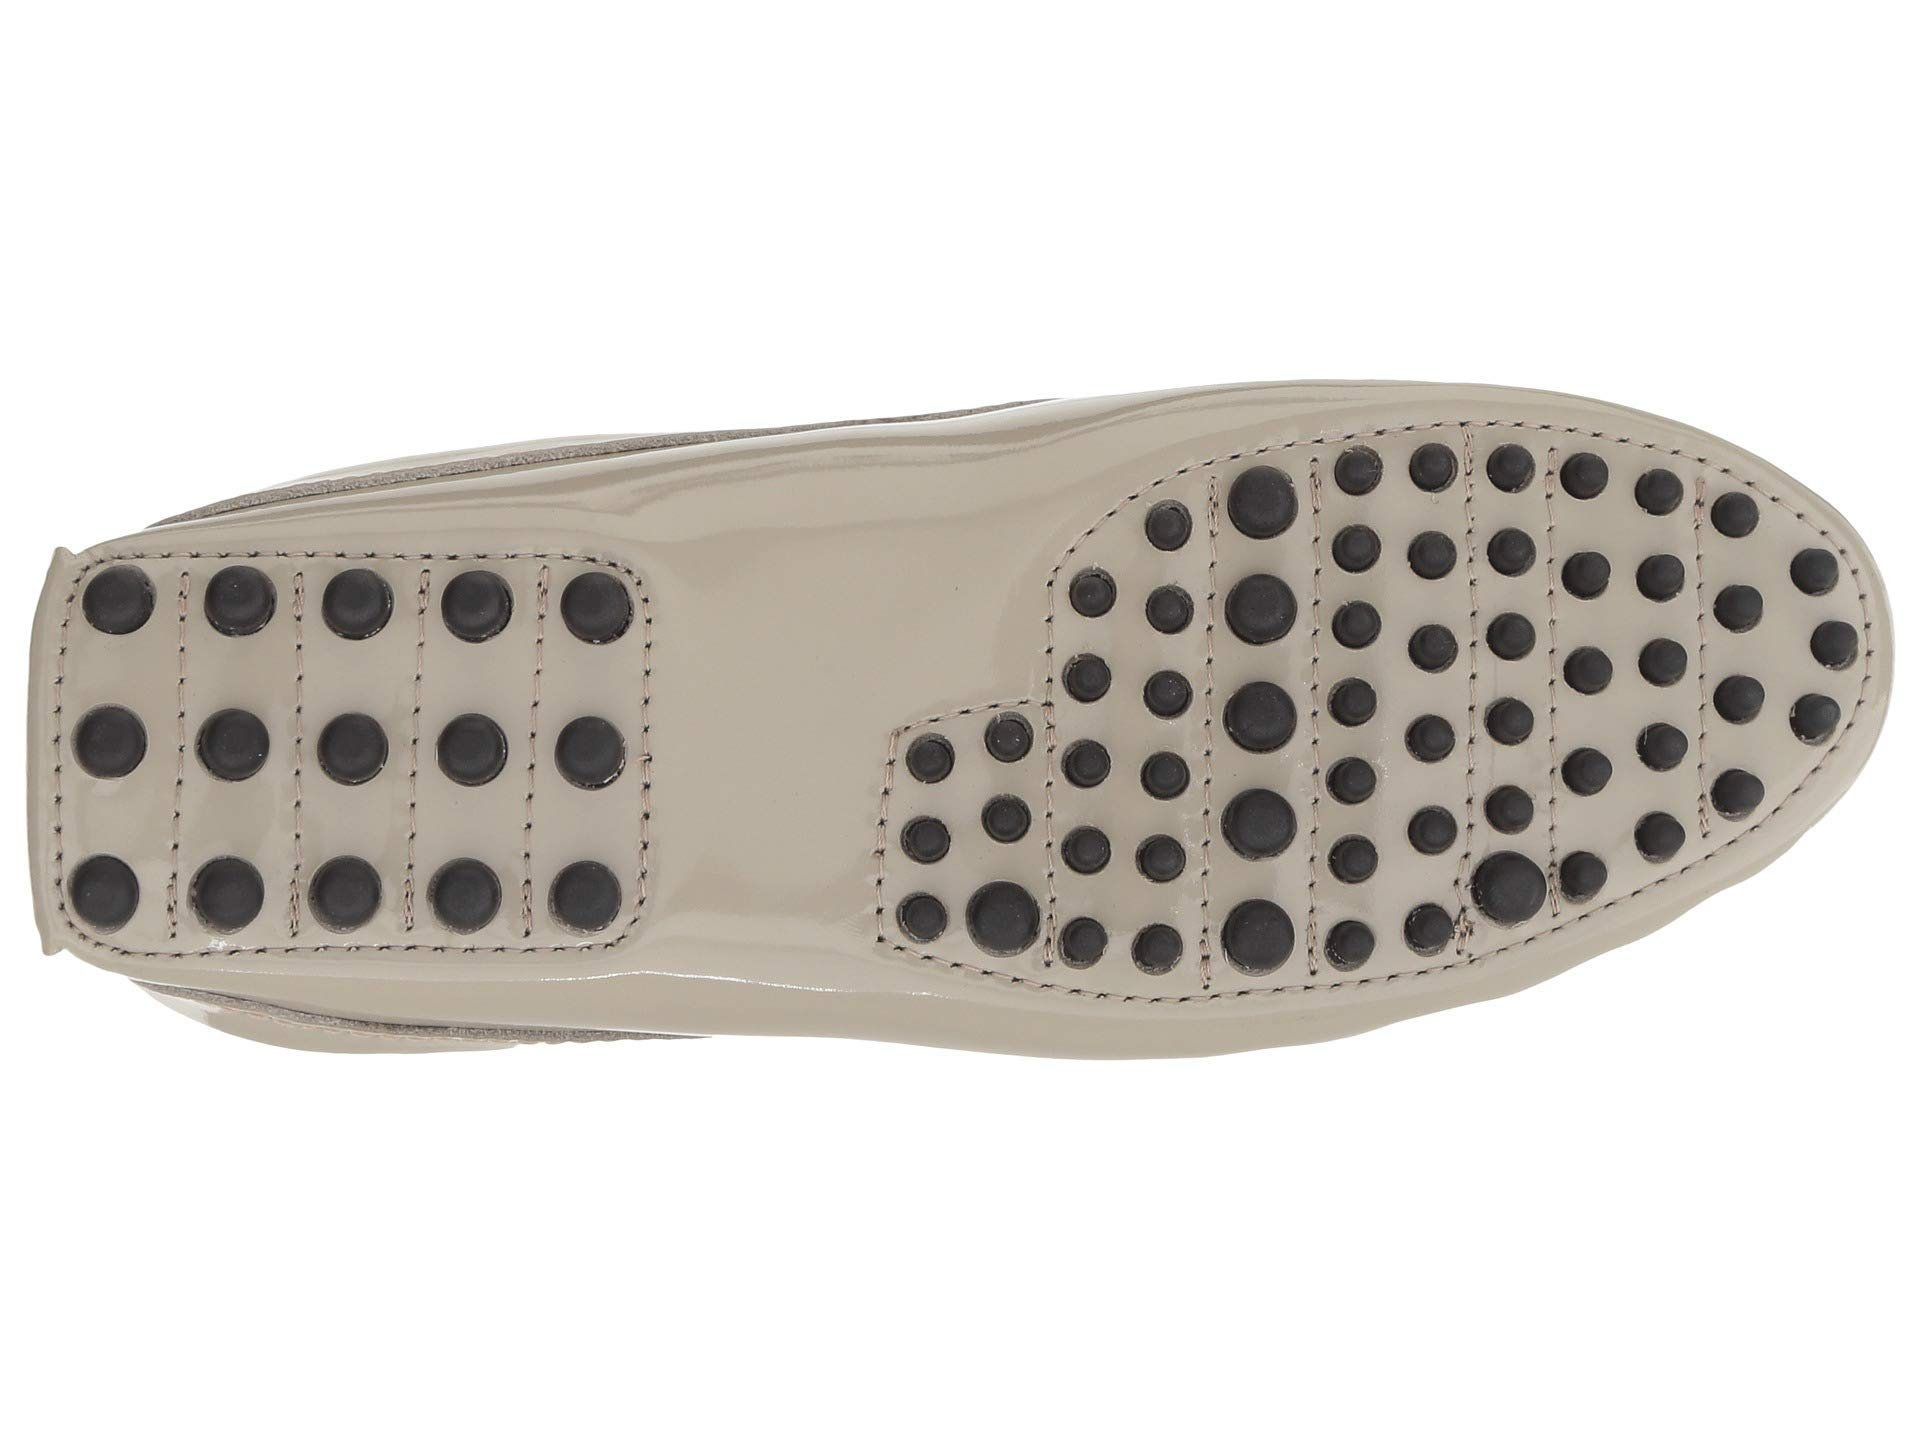circle: (1058, 439, 1773, 858), (60, 545, 673, 945)
